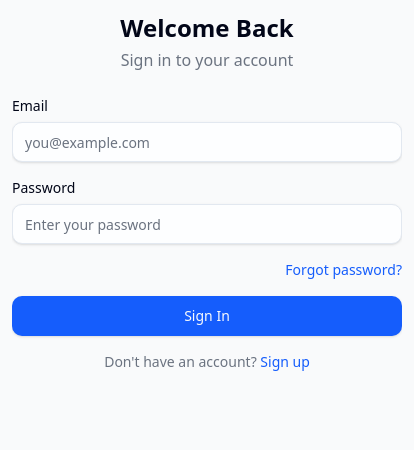
Test: LoginForm › should display error message on login failure
In the field labelled "Email": x=207, y=142 [12,122,402,162], type "test@example.com"
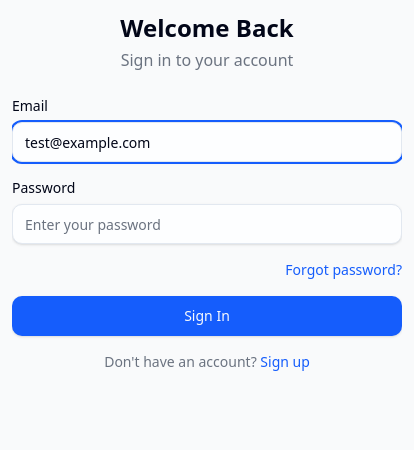
In the password field labelled "Password": x=207, y=224 [12,204,402,244], type "wrongpassword"
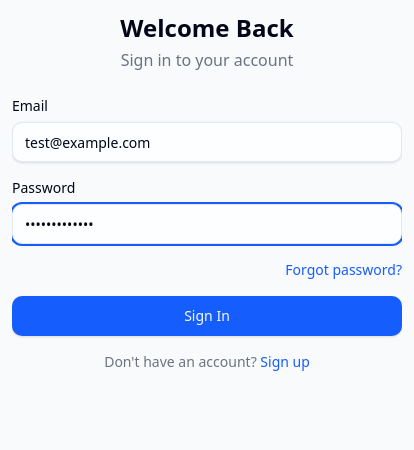
Click the button "Sign In": x=207, y=316 [12,296,402,336]
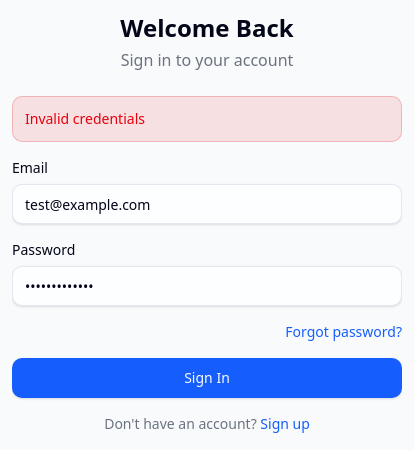
Expected: the text "Invalid credentials" is shown, [25,109,145,128]
